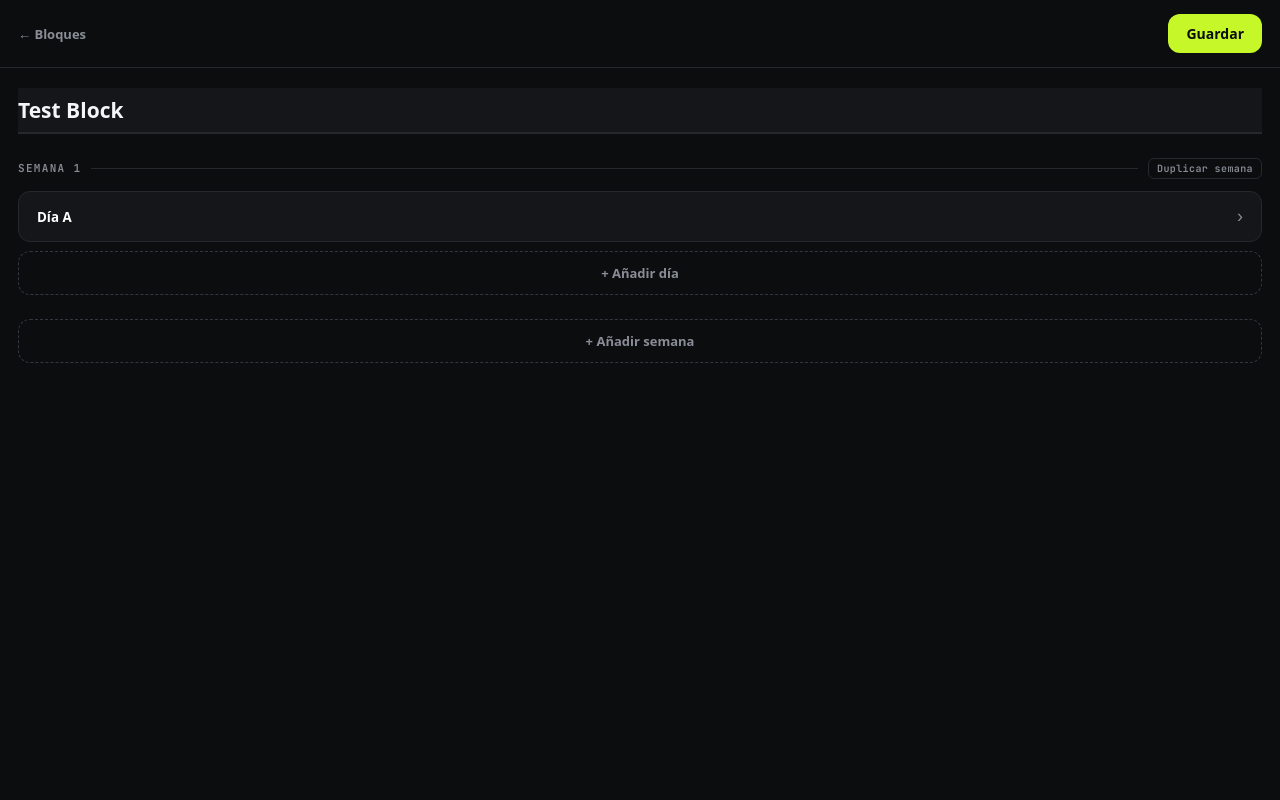
BlockEditorPage › remove set group button removes the set group
Step 1. Click the text "Día A" → point(54, 216), box [37,208,72,226]
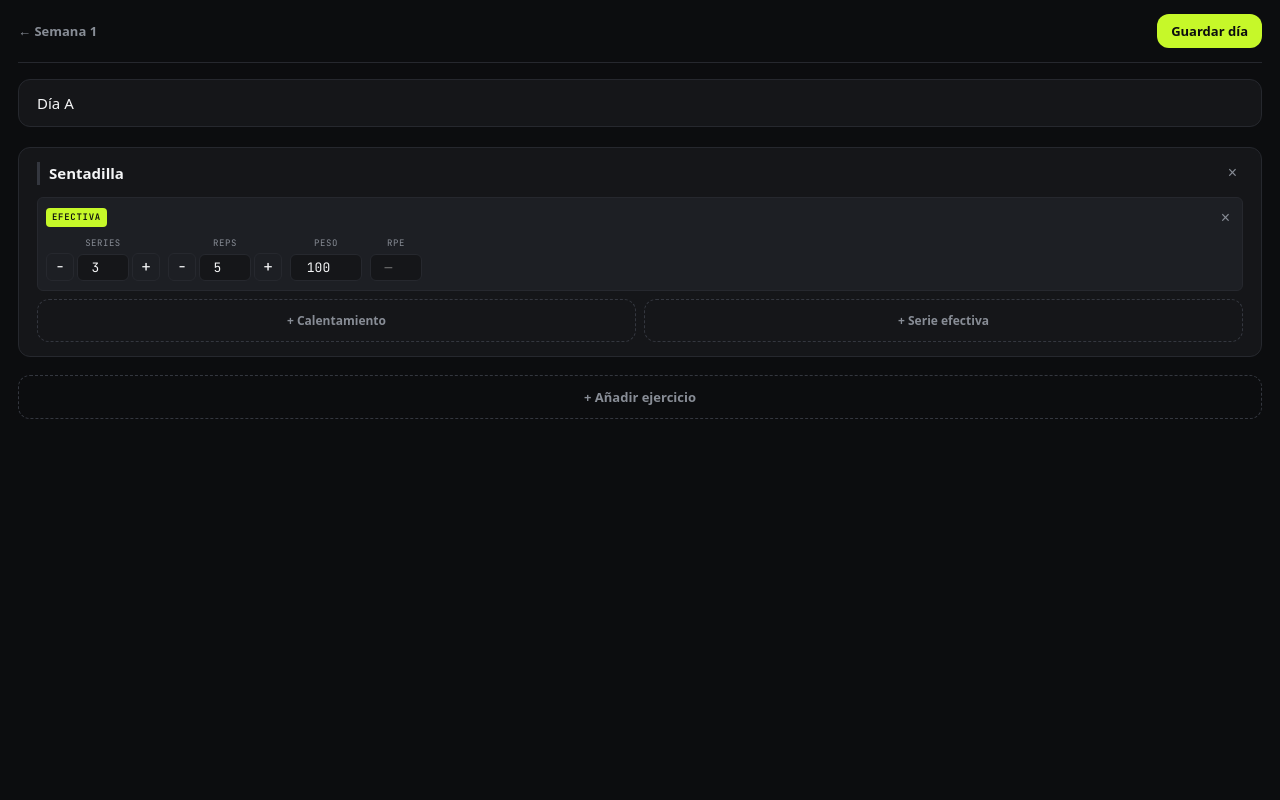
Now the button named "Eliminar serie" is shown
Step 2. Click the button named "Eliminar serie" → point(1225, 218), box [1217,206,1234,228]
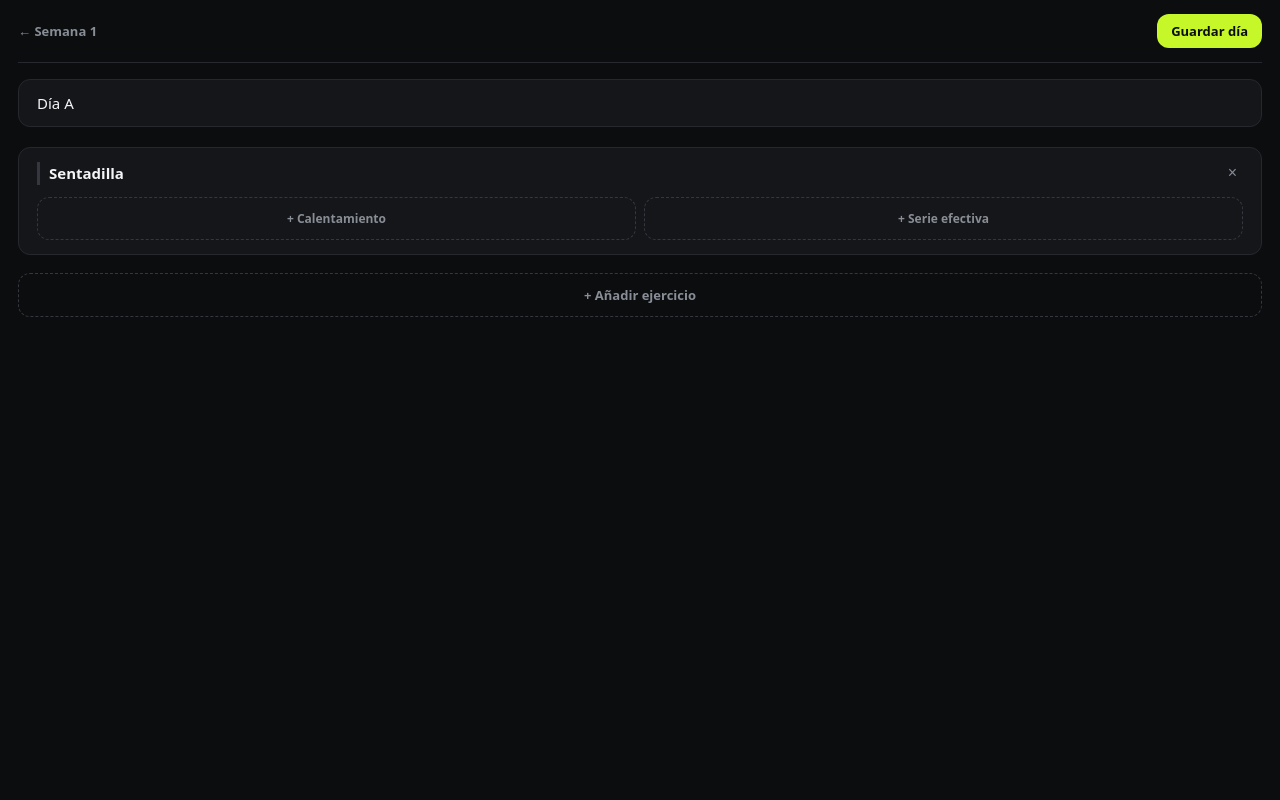
Now the text labelled "PESO" is gone
